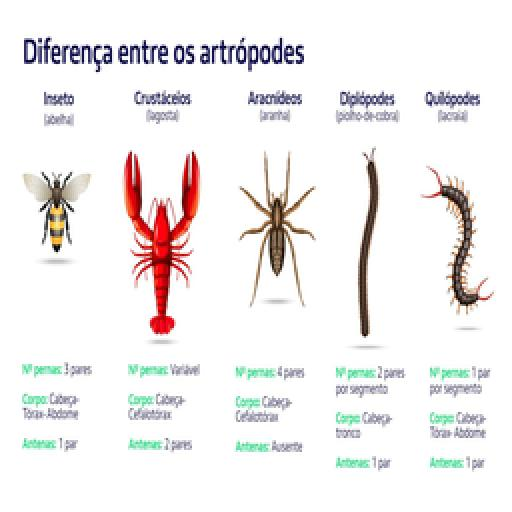insects: (233, 152, 317, 312), (420, 164, 496, 312), (22, 168, 90, 260)
